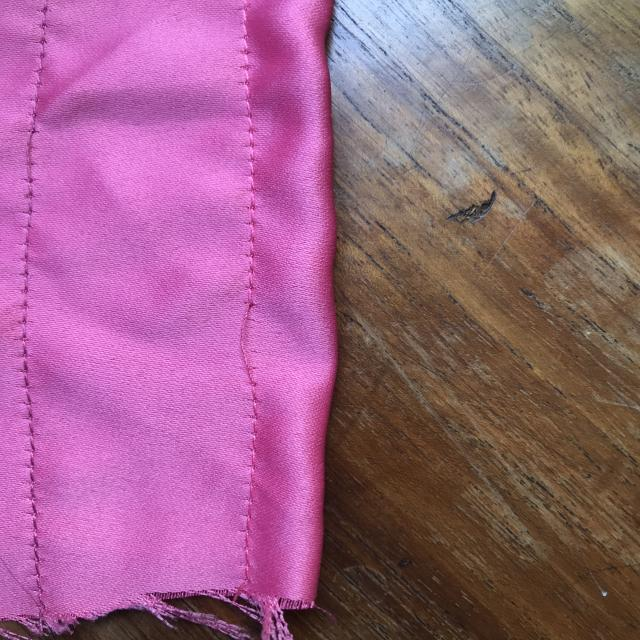skip: (220, 288, 285, 394)
